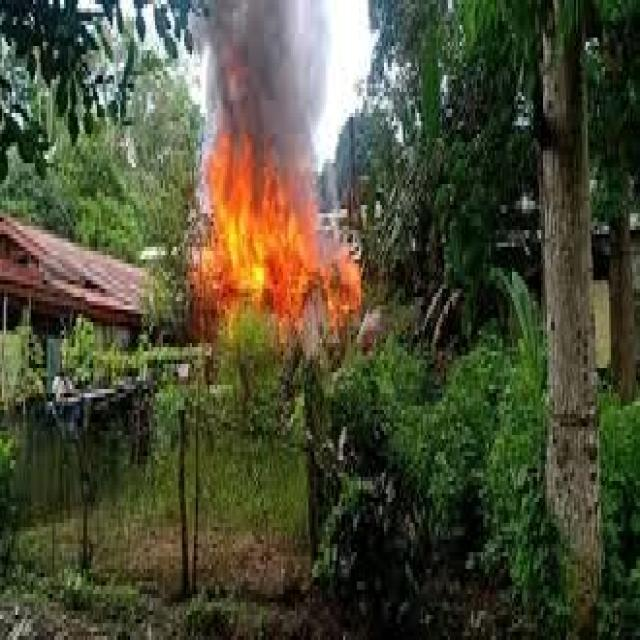Fire: (214, 161, 351, 321)
Smoke: (204, 0, 348, 172)
